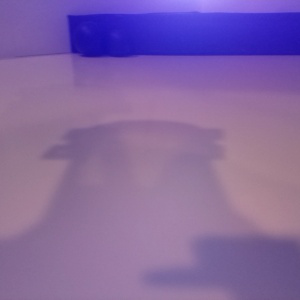dead_ball: (73, 20, 107, 57), (105, 28, 133, 57)
